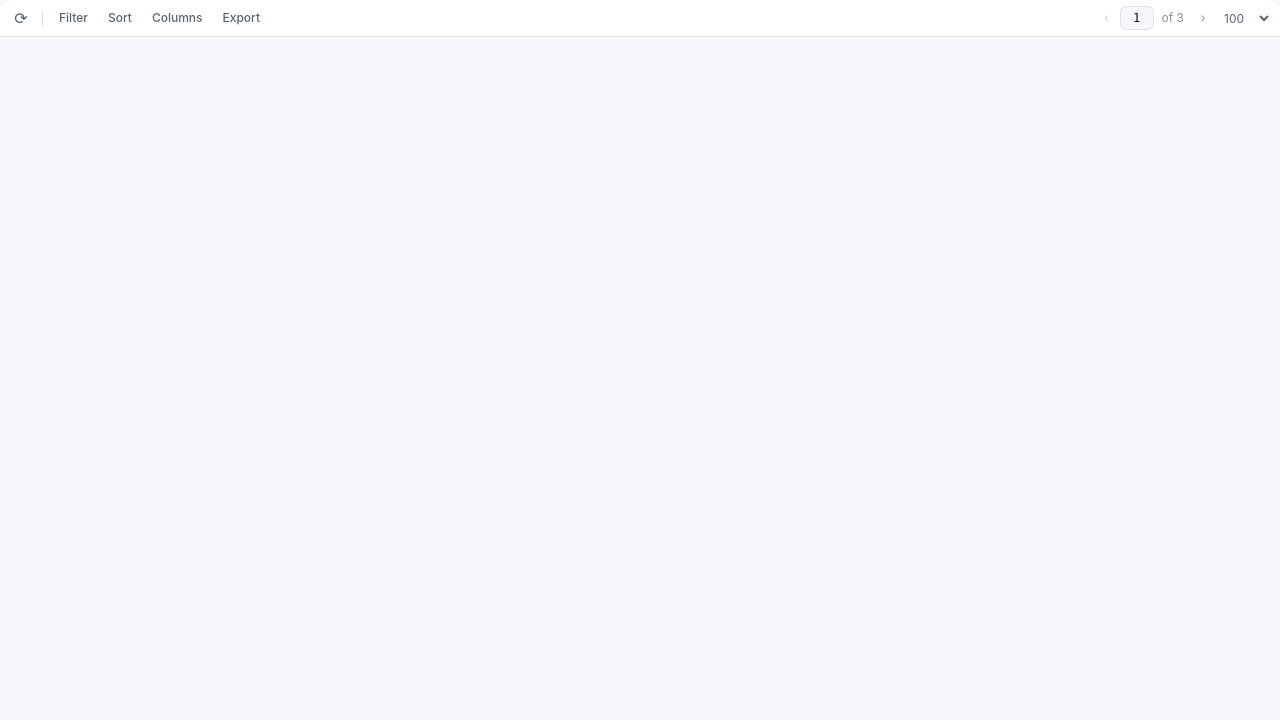
Test: GridToolbar › opens the filter popover and closes it again
This screenshot has width=1280, height=720.
Click the button "Filter" at (74, 18), box [51,5,96,31]
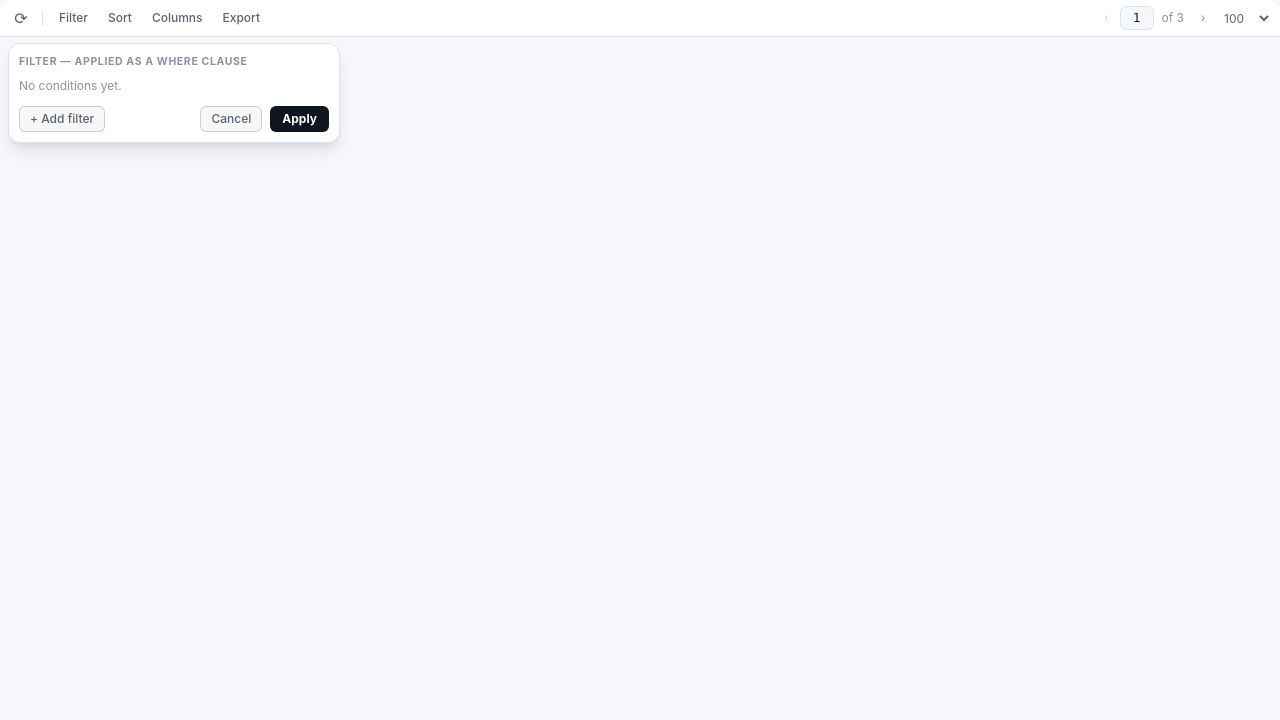
Result: the text "Filter — applied as a WHERE clause" is shown at [19,55,248,68]
Click the button "Cancel" at (231, 119), box [200,106,262,132]
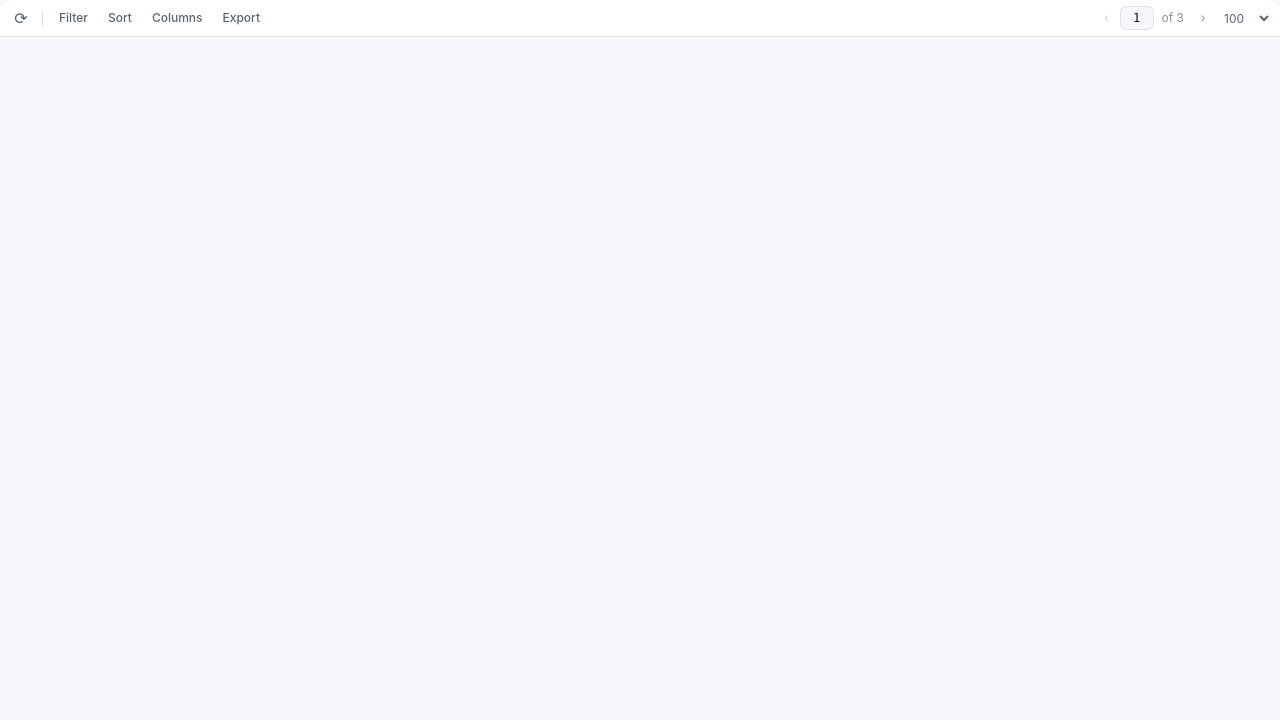
Result: the text "applied as a WHERE clause" is gone
